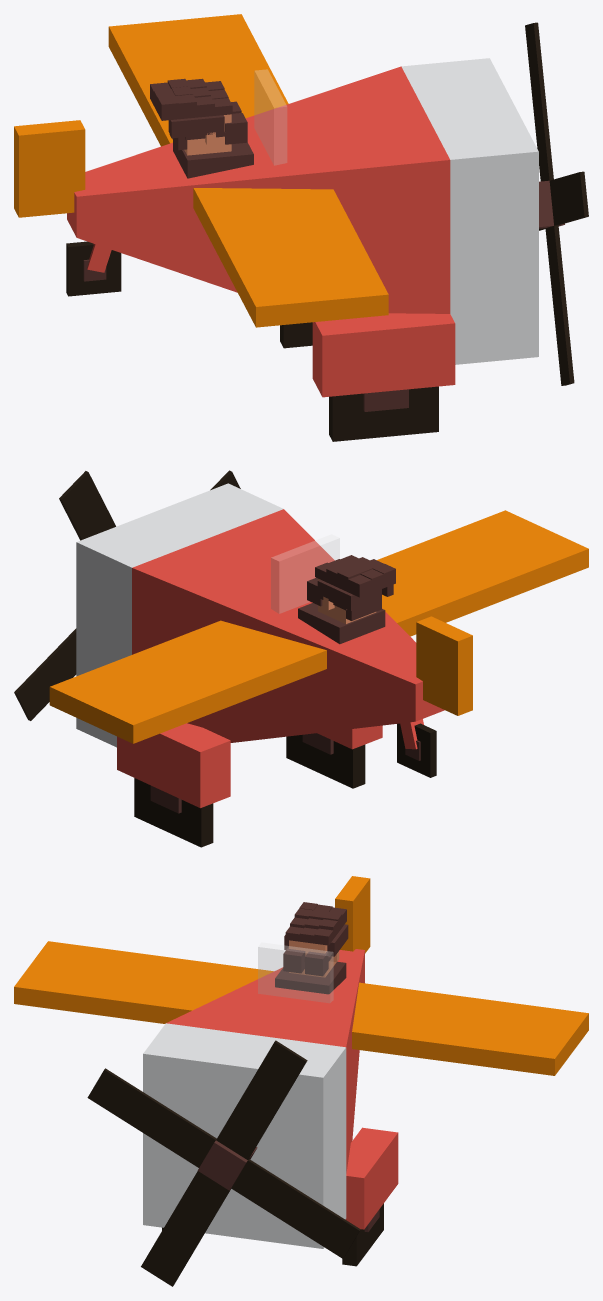
The picture shows the model from 3 angles, top to bottom: view 1: azimuth 30°, elevation 25°; view 2: azimuth 150°, elevation 25°; view 3: azimuth 270°, elevation 25°; orthographic projection. The views are drawn at different scales.
Parts seen in each view (by area): view 1: airplane, propeller, pilot; view 2: airplane, propeller, pilot; view 3: airplane, propeller, pilot.
Part boxes in pixels (x1,y1,x2,y2): airplane: (14,14,538,441); propeller: (525,22,588,385); pilot: (168,101,253,178); airplane: (49,483,588,847); propeller: (14,470,240,720); pilot: (298,577,393,644); airplane: (14,876,588,1266); propeller: (87,1040,360,1286); pilot: (275,924,348,994).
Bounding box in the file's own units: 1.28 × 0.7776 × 1.52.
